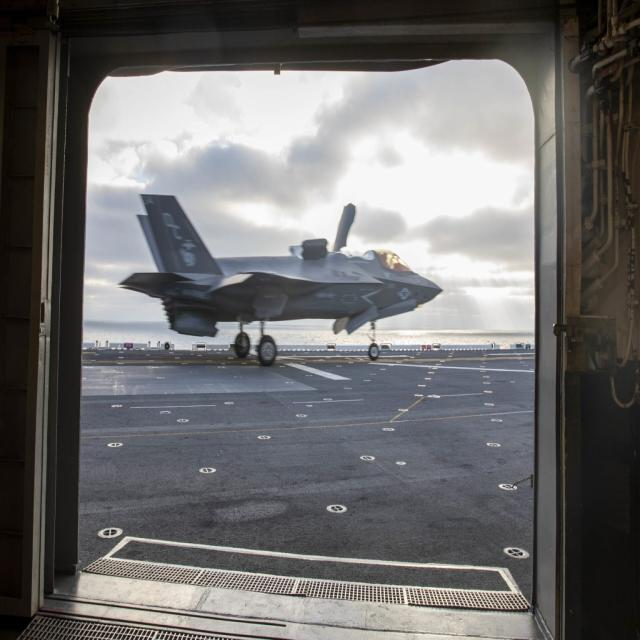MIL_Plane: (116, 193, 444, 366)
